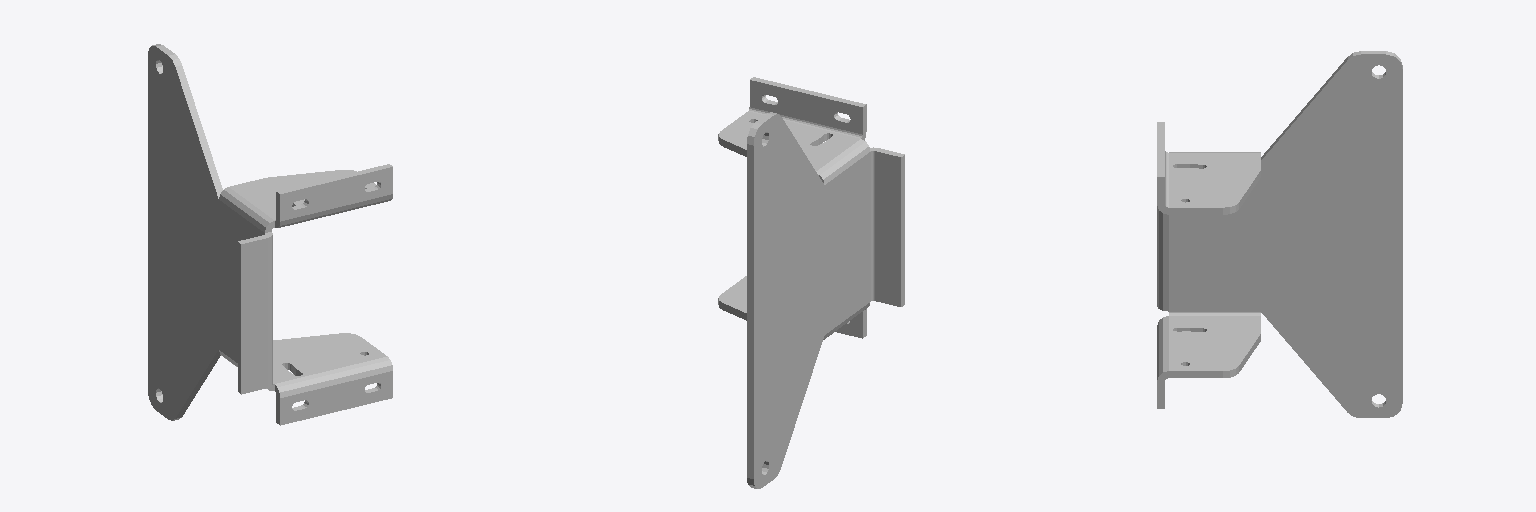
Rendered from lidar_mount.obj.
3 renders of one model, left to right at view 1: azimuth 30°, elevation 25°; view 2: azimuth 150°, elevation 25°; view 3: azimuth 270°, elevation 25°, orthographic.
Parts seen in each view (by area): view 1: obj1; view 2: obj1; view 3: obj1.
Boxes of the visible parts, <box> form: obj1: <box>148,44,392,425</box>; obj1: <box>718,77,904,488</box>; obj1: <box>1157,51,1402,417</box>.
Size of the model in its own units: 0.1048 by 0.24 by 0.1468.